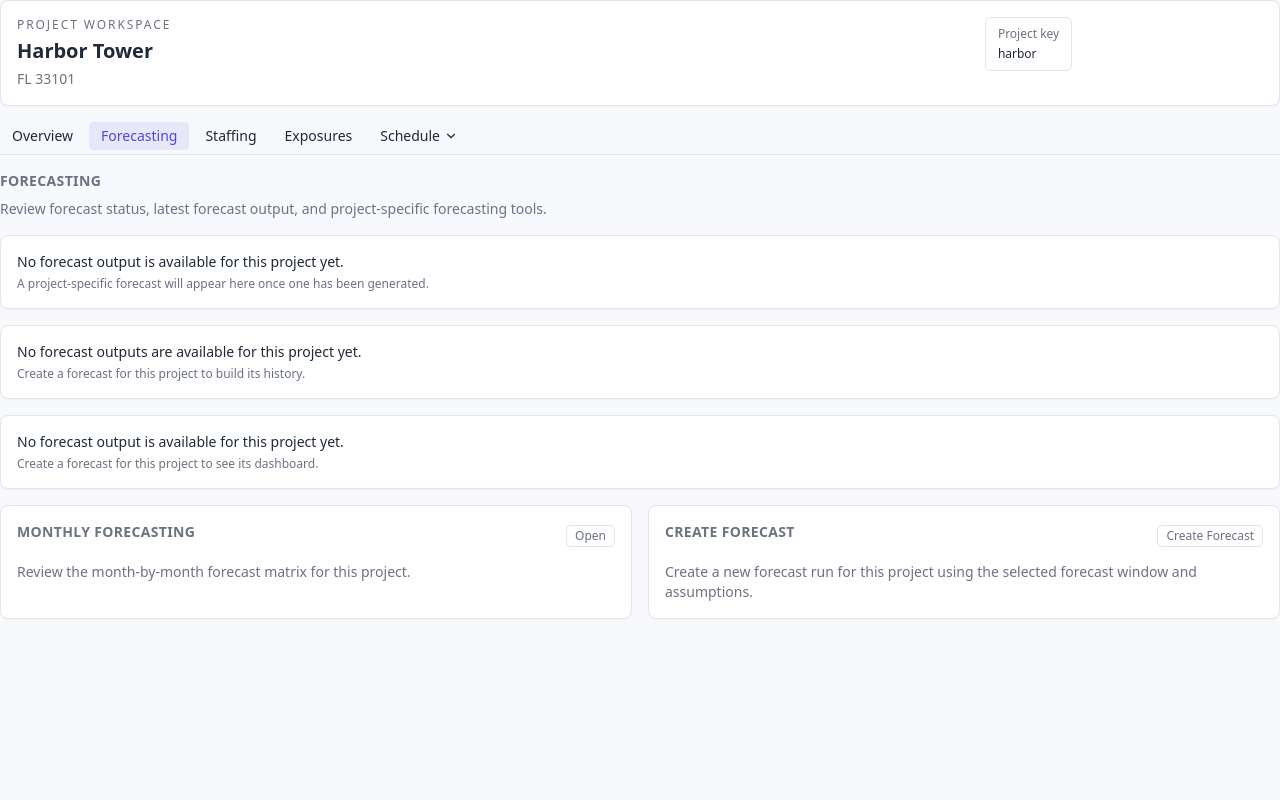
Test: Project forecast creation › surfaces a business-facing error when creation is rejected
Click the button "Create Forecast".
click(1210, 536)  # box [1157,525,1263,547]
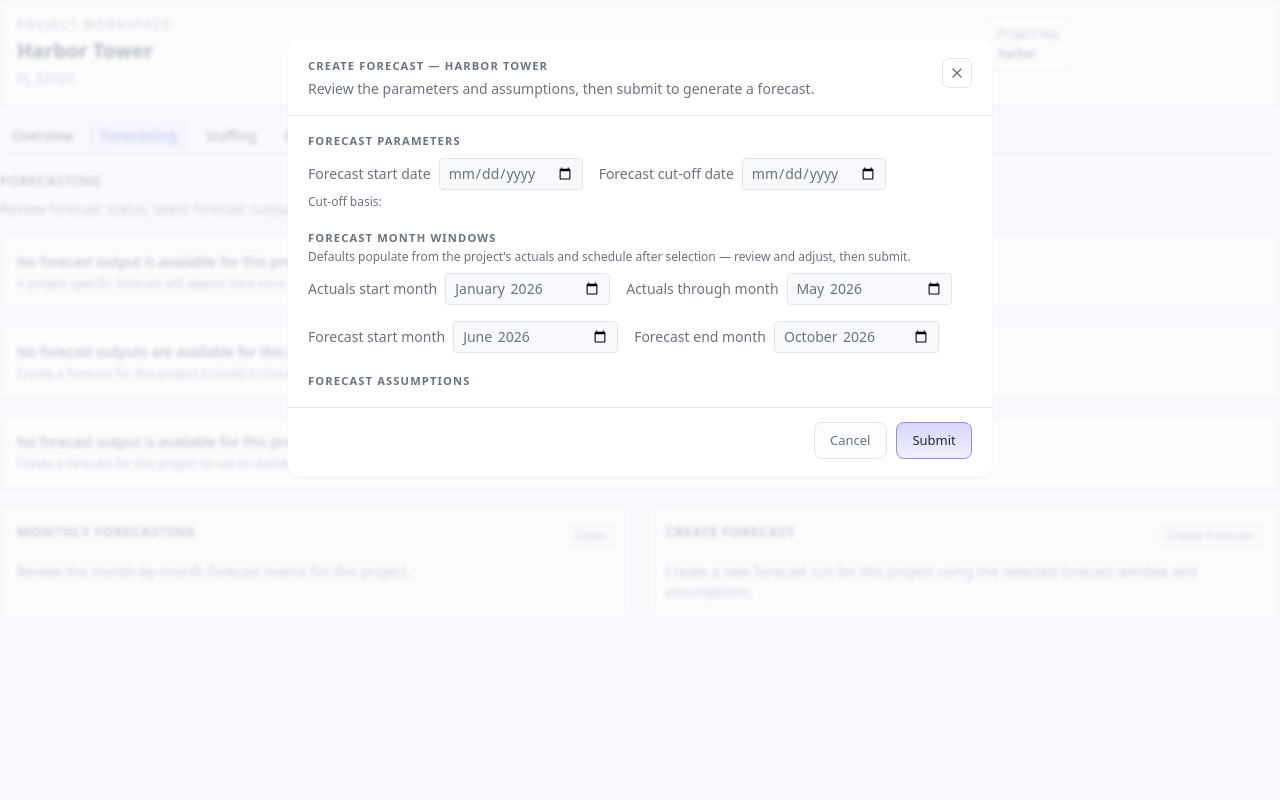
Click the button "Submit".
click(934, 441)  # box [896,422,972,459]
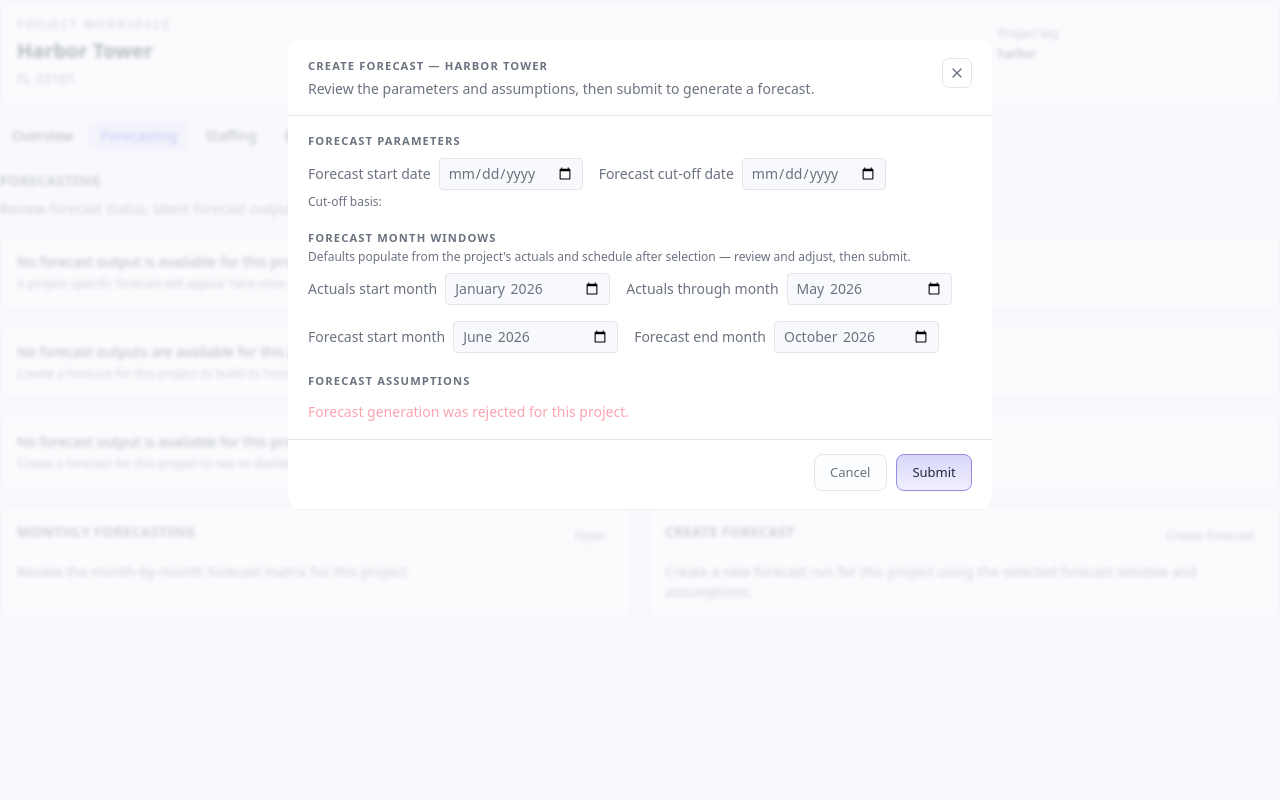
Expected: the heading "Create forecast — Harbor Tower" is shown, [308,58,548,73]
Expected: the text "Forecast generation was rejected for this project." is shown, [308,402,629,421]
